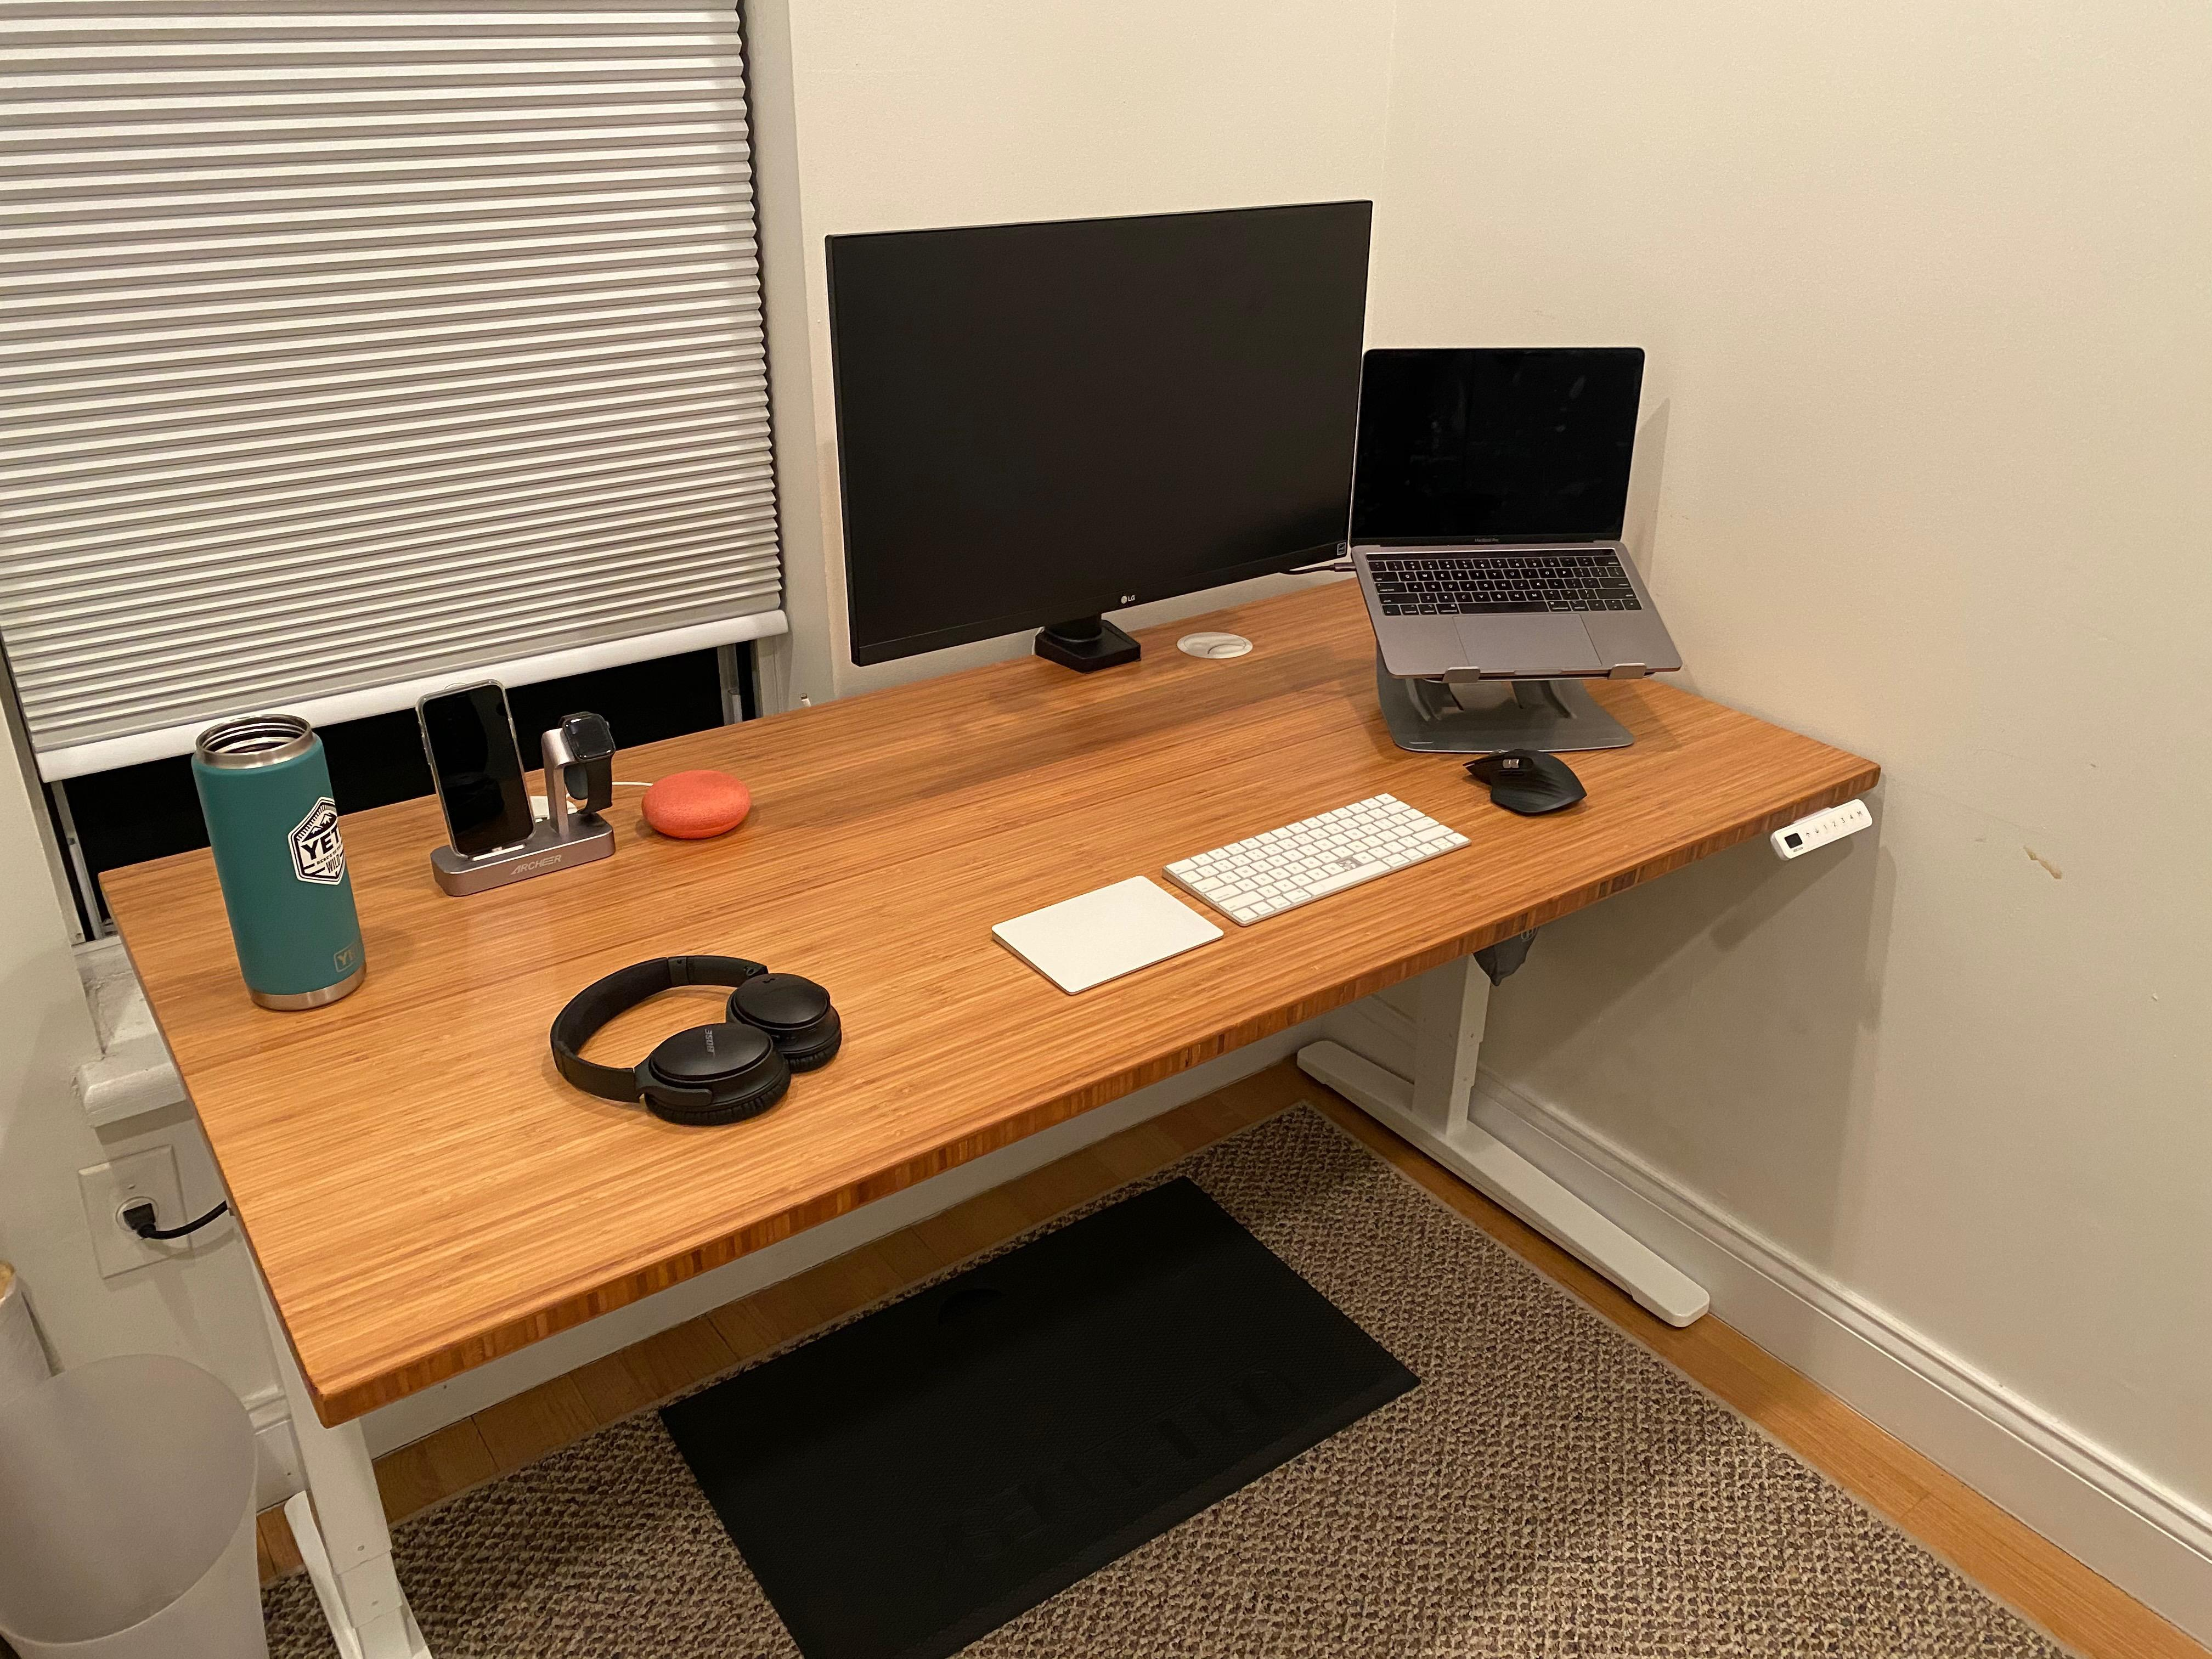Cellphone: (416, 680, 538, 859)
Cellphone Charger (Generic): (423, 812, 617, 896)
Decoration (Watch): (564, 711, 620, 812)
Desk (Generic): (94, 570, 1975, 1377)
Headphones: (549, 953, 841, 1126)
Keyboard (Generic): (1160, 793, 1470, 929)
Laptop (OSX): (1348, 345, 1681, 678)
Laptop Stand: (1378, 634, 1648, 751)
Monitor (Landscape): (827, 199, 1374, 667)
Mouse (Gaming): (1461, 746, 1588, 816)
Mouse (Magic Trackpad): (991, 875, 1223, 993)
Trash Can: (0, 1349, 268, 1657)
Water Bottle: (192, 721, 364, 1011)
